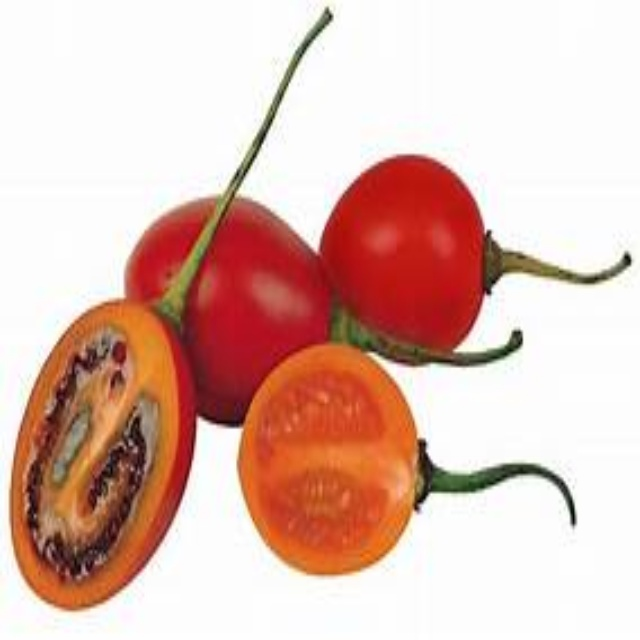tomato: (18, 306, 202, 600), (129, 203, 338, 423), (244, 353, 425, 572), (318, 157, 504, 367)
